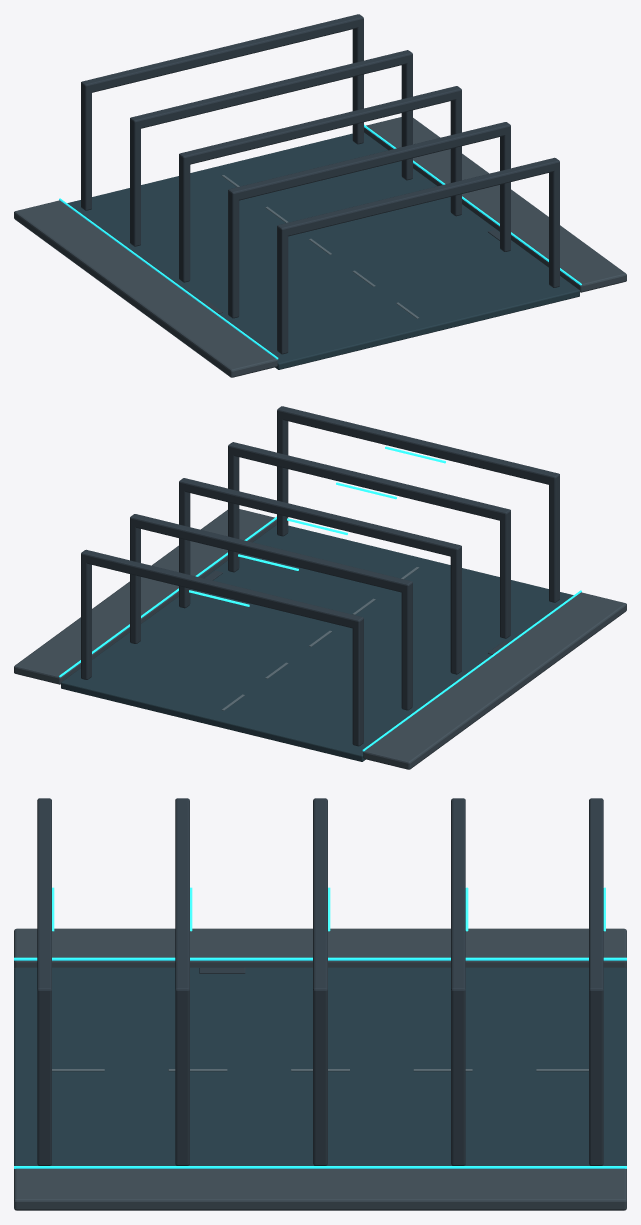
Rendered from tunnel_lod1.glb.
3 views of the same model, one above another, from view 1: azimuth 30°, elevation 25°; view 2: azimuth 150°, elevation 25°; view 3: azimuth 270°, elevation 25° (orthographic). The views are drawn at different scales.
Parts seen in each view (by area): view 1: ND_Batch_ND_WetAsphalt, ND_Batch_ND_RooftopMetal, ND_Batch_ND_RoadEdge, ND_Batch_ND_CityCyanMuted; view 2: ND_Batch_ND_WetAsphalt, ND_Batch_ND_RooftopMetal, ND_Batch_ND_RoadEdge, ND_Batch_ND_CityCyanMuted, ND_Batch_ND_RouteCyan; view 3: ND_Batch_ND_WetAsphalt, ND_Batch_ND_RoadEdge, ND_Batch_ND_RooftopMetal, ND_Batch_ND_CityCyanMuted, ND_Batch_ND_CityConcreteLight, ND_Batch_ND_RouteCyan.
Part boxes in pixels (x1,y1,x2,y2): ND_Batch_ND_WetAsphalt: [67, 132, 579, 369]; ND_Batch_ND_RooftopMetal: [81, 14, 559, 354]; ND_Batch_ND_RoadEdge: [14, 117, 626, 377]; ND_Batch_ND_CityCyanMuted: [59, 124, 581, 359]; ND_Batch_ND_WetAsphalt: [61, 524, 573, 761]; ND_Batch_ND_RooftopMetal: [81, 406, 559, 746]; ND_Batch_ND_RoadEdge: [14, 509, 626, 769]; ND_Batch_ND_CityCyanMuted: [59, 516, 581, 751]; ND_Batch_ND_RouteCyan: [189, 446, 445, 606]; ND_Batch_ND_WetAsphalt: [14, 967, 626, 1169]; ND_Batch_ND_RoadEdge: [14, 928, 626, 1210]; ND_Batch_ND_RooftopMetal: [37, 798, 603, 1165]; ND_Batch_ND_CityCyanMuted: [14, 957, 626, 1168]; ND_Batch_ND_CityConcreteLight: [52, 1069, 588, 1071]; ND_Batch_ND_RouteCyan: [52, 887, 605, 931].
Size of the model in its own units: 21 by 6.73 by 20.
